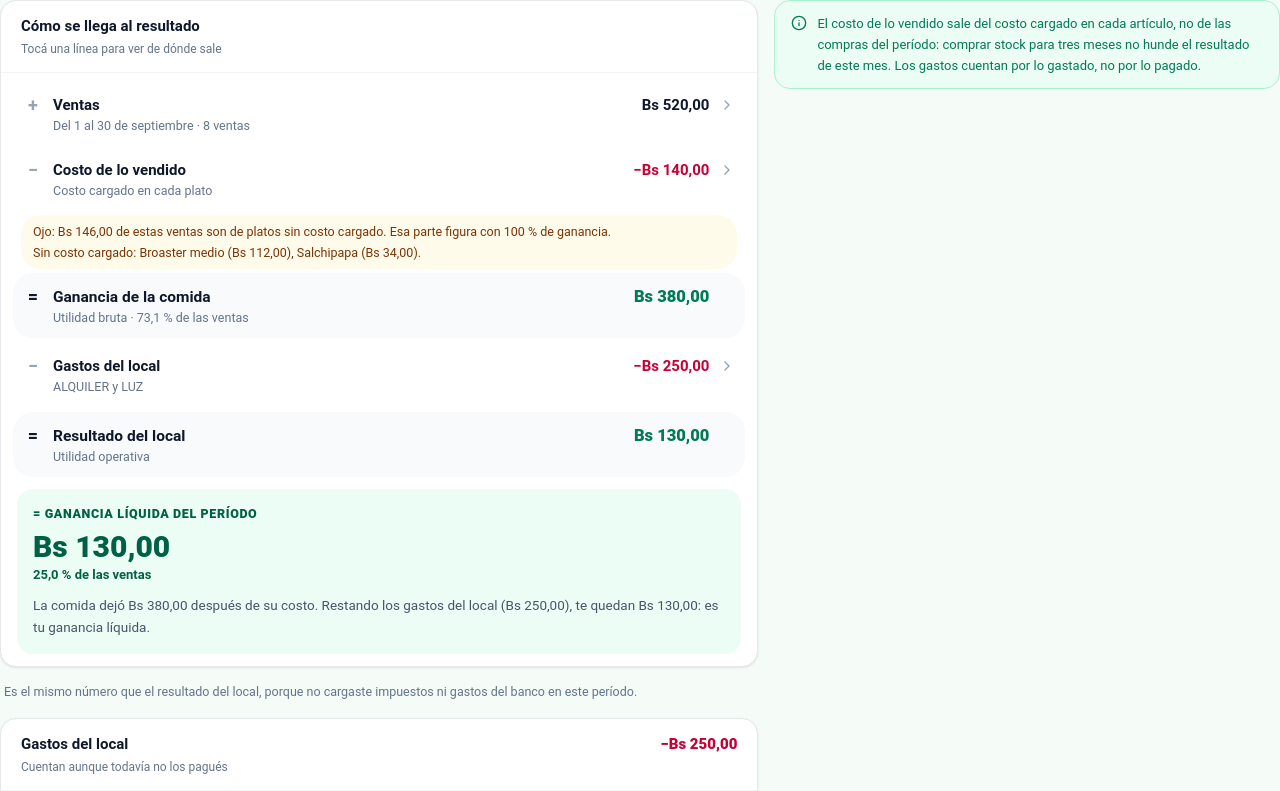
Scenario: restaurante: platos sin costo e insumos (28-oct) › sin permiso para el catálogo dice dónde se carga el costo, sin enlace
Click the text "Costo de lo vendido".
click(120, 170)  # box [53, 161, 186, 179]
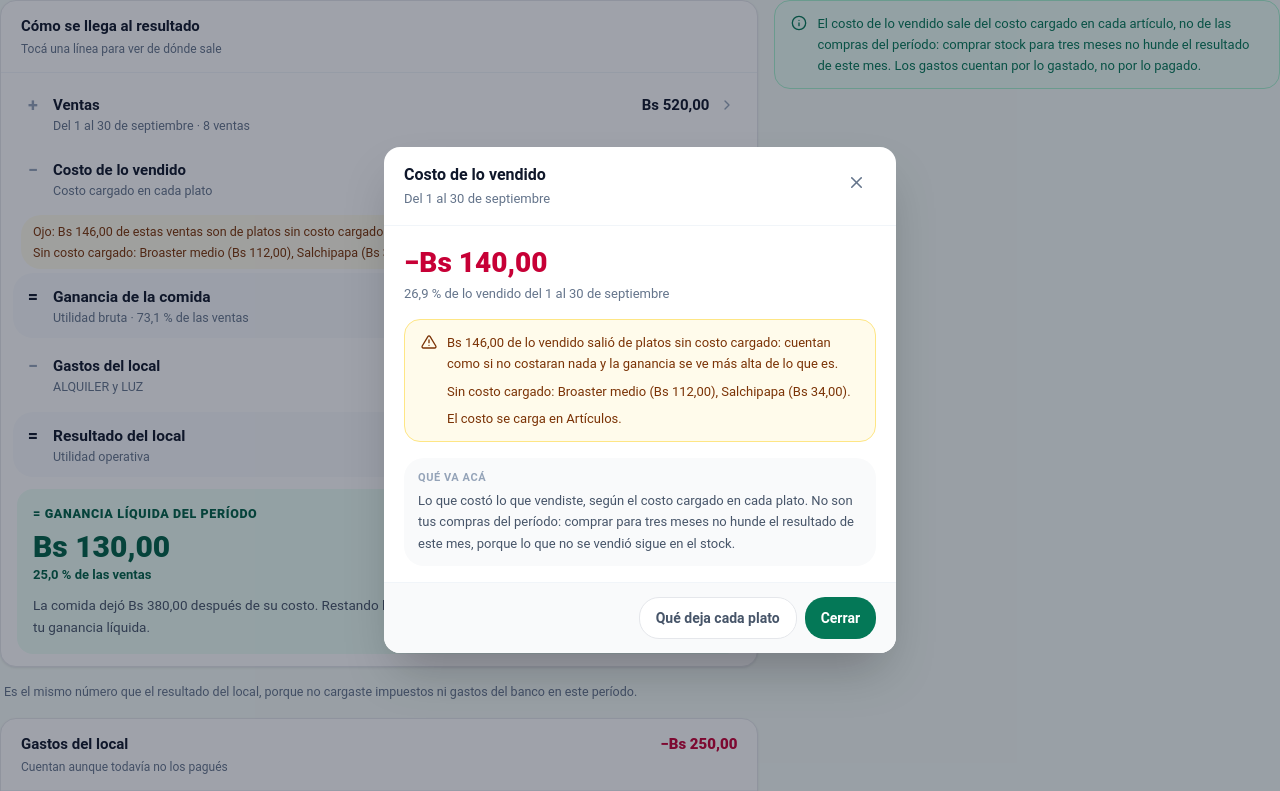
Check: the text "El costo se carga en Artículos." is shown, box [447, 411, 622, 426]
